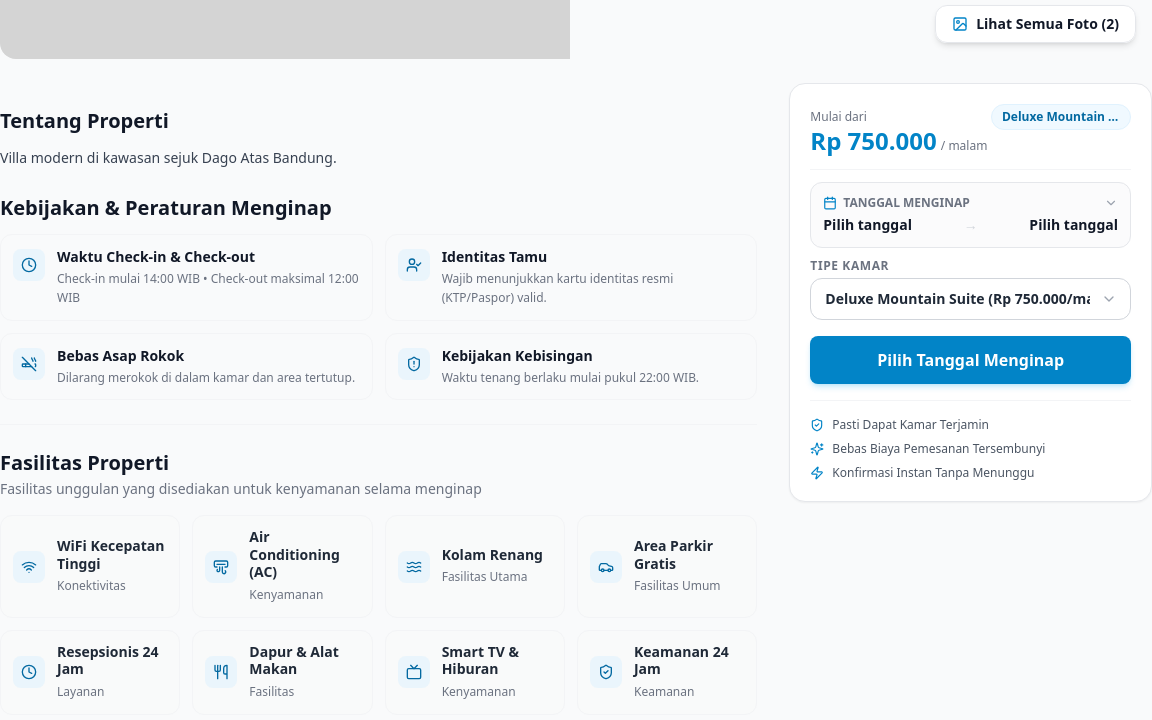
Test case: PropertyDetailPage Integration › shows popup alert modal when booking from sidebar without selecting dates
(page scrolled)
Click the button "Pilih Tanggal Menginap": [971, 360] box [810,336,1131,384]
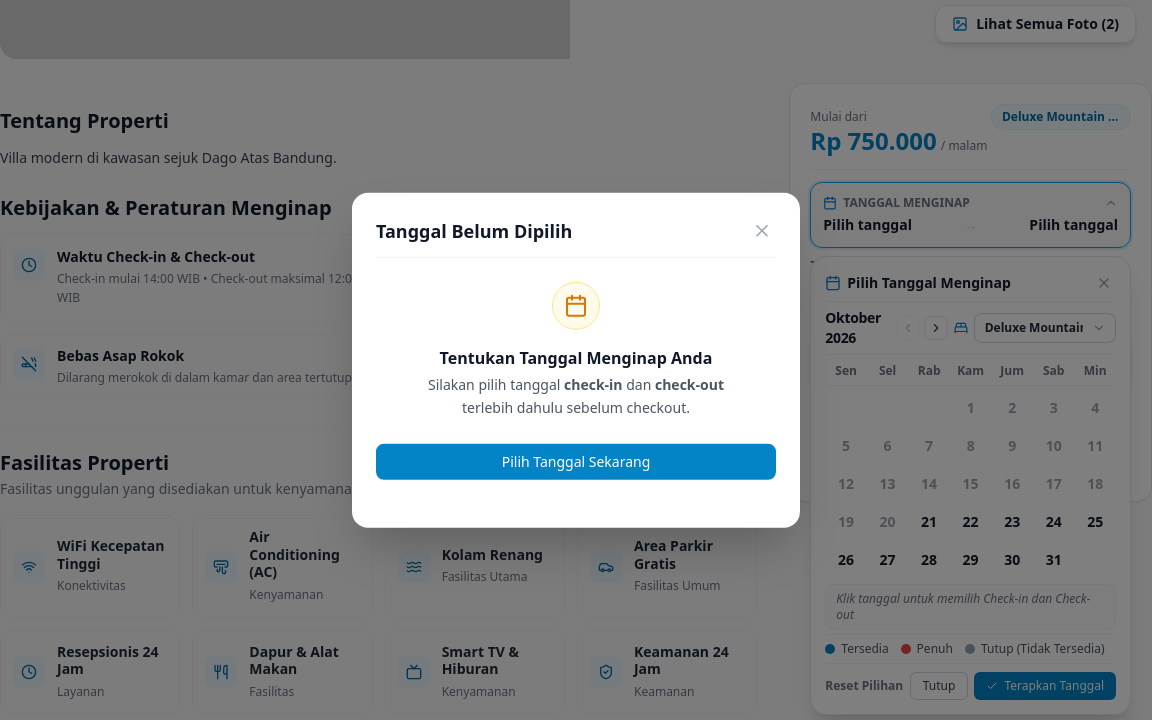
Expected: the heading "Tanggal Belum Dipilih" is shown, [376,217,572,245]
Expected: the heading "Tentukan Tanggal Menginap Anda" is shown, [440,347,712,369]
Expected: the button "Pilih Tanggal Sekarang" is shown, [376,443,776,479]
